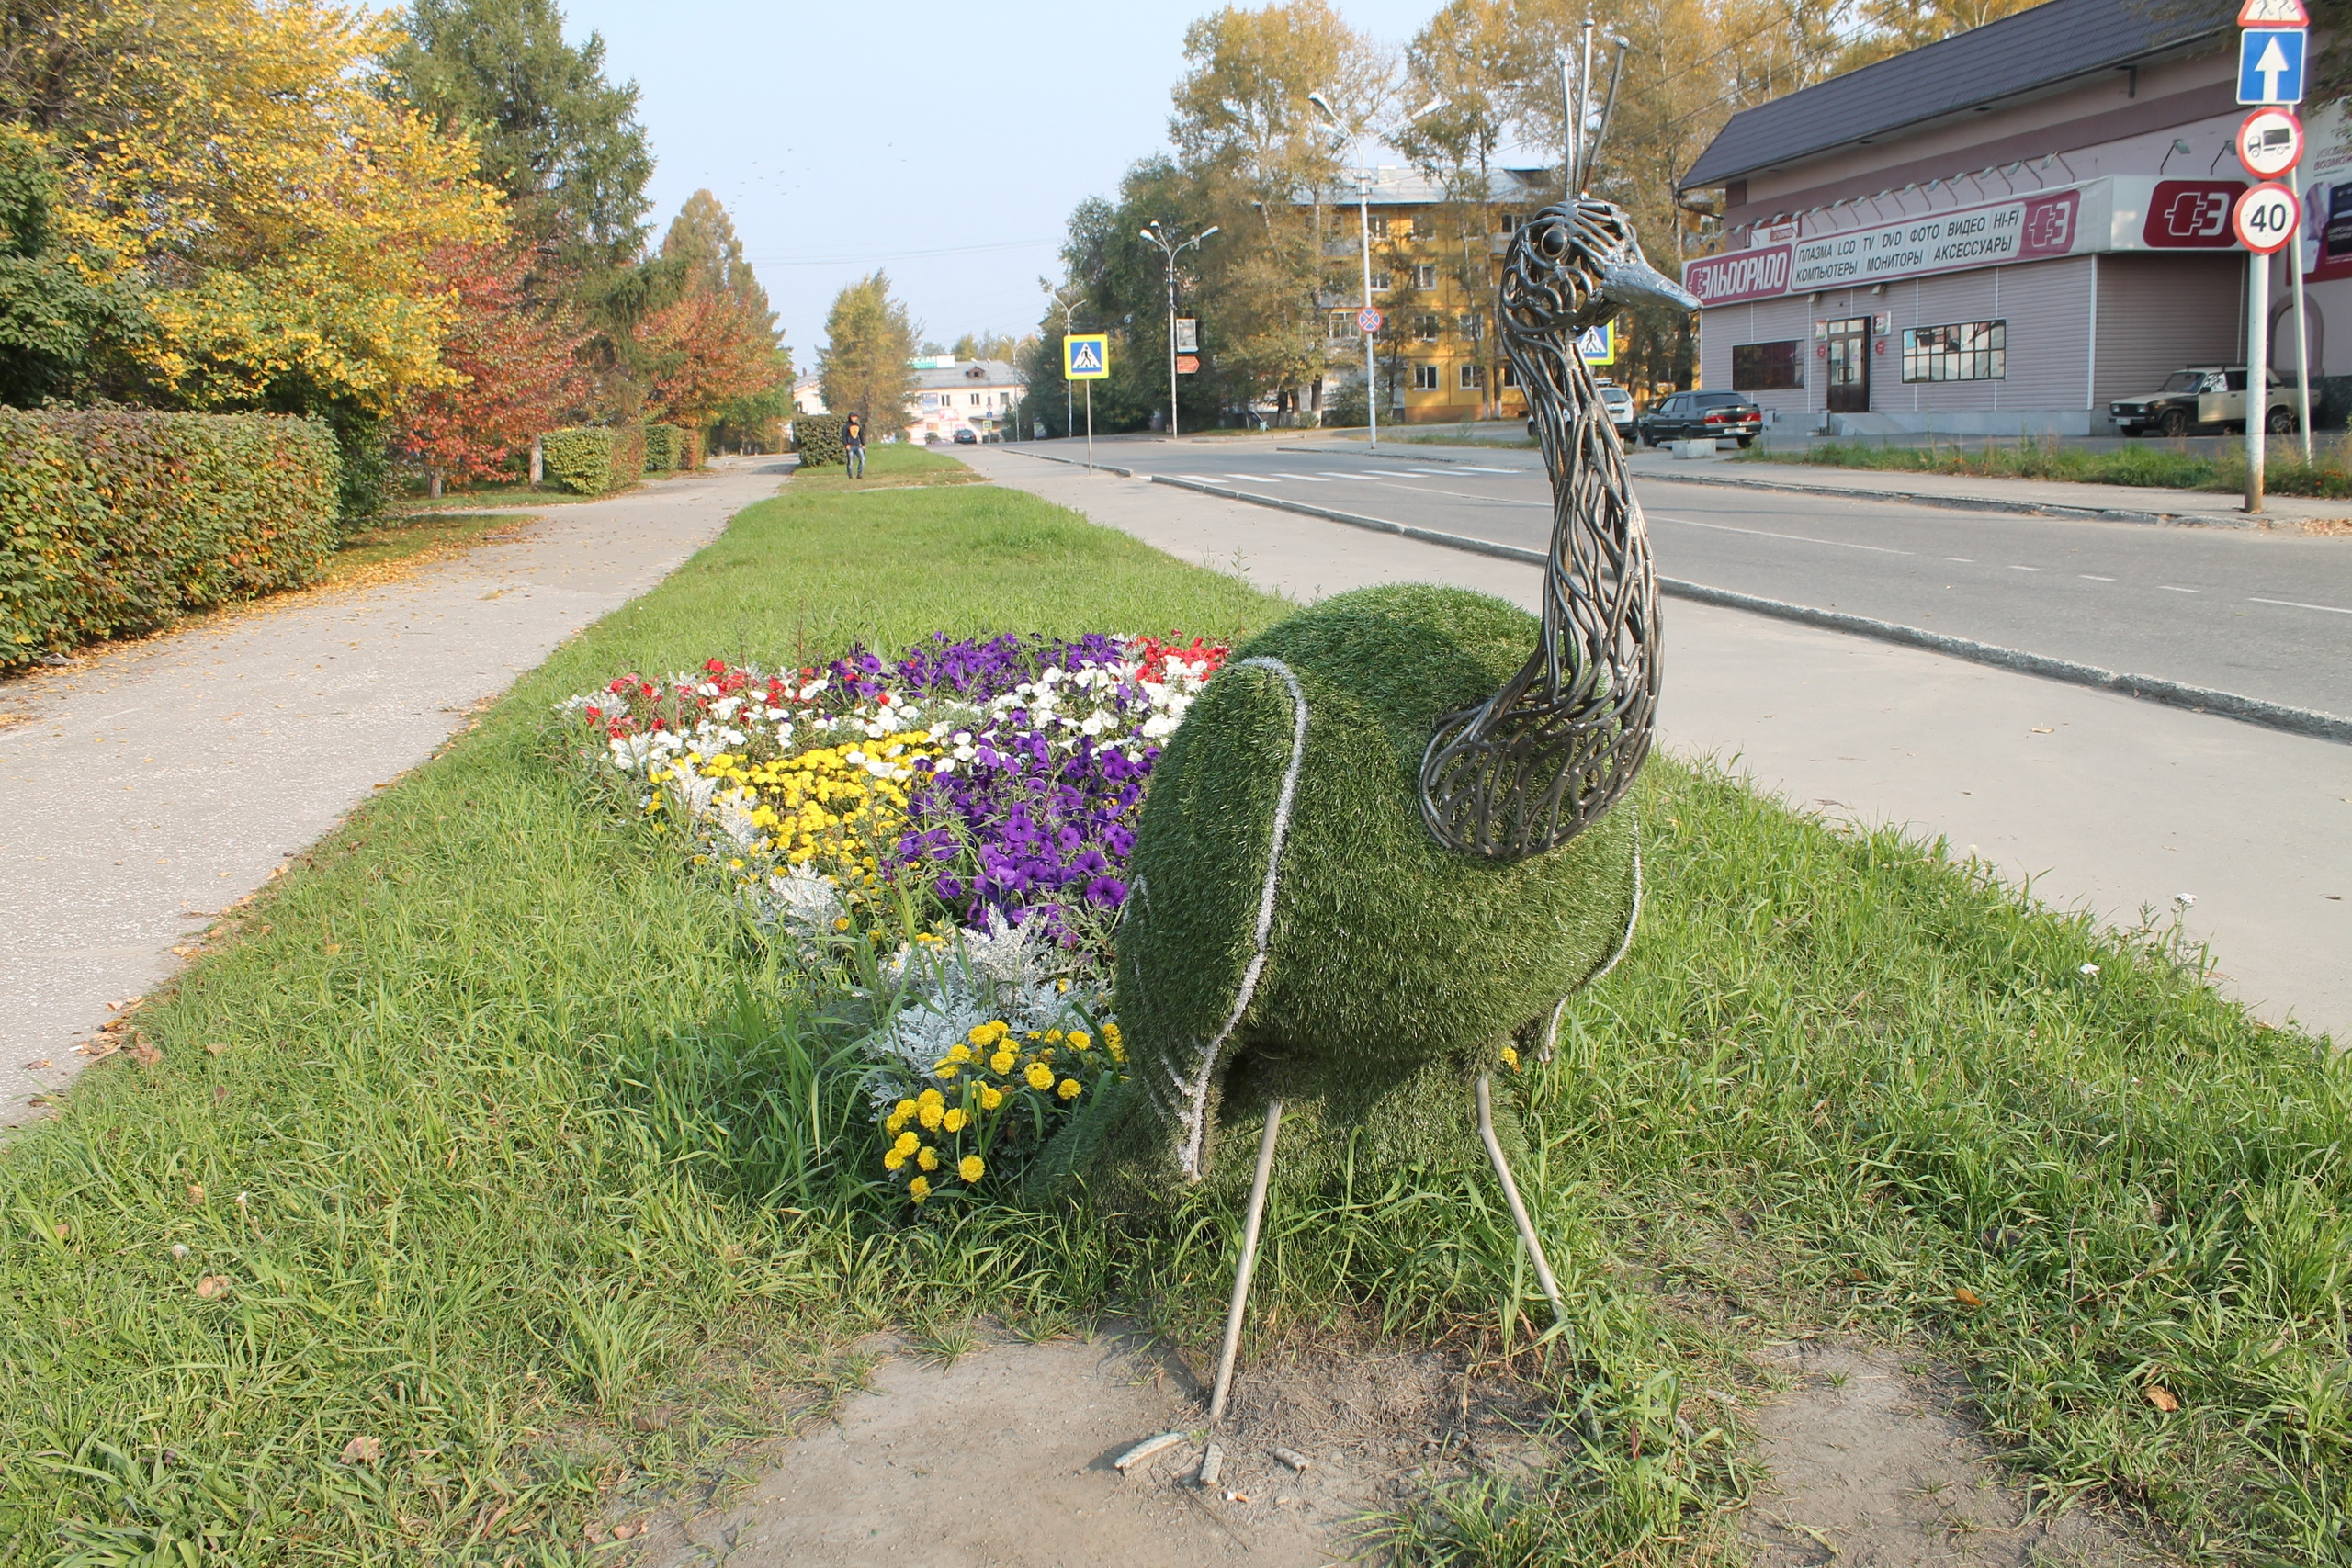sign: (2235, 26, 2306, 105), (2233, 105, 2305, 182), (2231, 180, 2301, 257), (1568, 310, 1615, 366), (1060, 332, 1111, 380), (2233, 2, 2310, 28), (1356, 304, 1382, 332), (982, 418, 994, 431), (983, 411, 996, 418)
